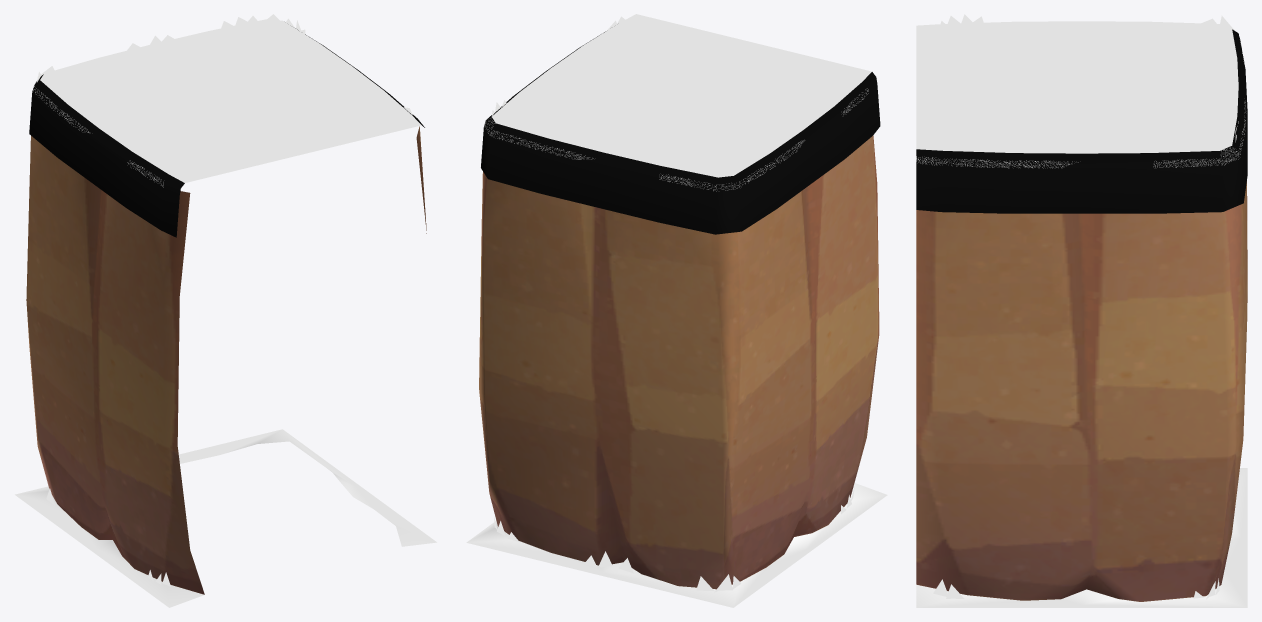
3 views of the same model, side by side, from view 1: azimuth 30°, elevation 25°; view 2: azimuth 150°, elevation 25°; view 3: azimuth 270°, elevation 25° (orthographic). The views are drawn at different scales.
Parts seen in each view (by area): view 1: Cliff__mCliff, GrassT__mGrass, GrassOP__mGrassCliffXlu, GrassB__mGrass, PGrassBB__mProcGrass; view 2: Cliff__mCliff, GrassT__mGrass, GrassOP__mGrassCliffXlu, GrassB__mGrass, PGrassBB__mProcGrass; view 3: Cliff__mCliff, GrassT__mGrass, GrassOP__mGrassCliffXlu, GrassB__mGrass, PGrassBB__mProcGrass.
Boxes of the visible parts, x1=… form: Cliff__mCliff: x1=26, y1=126, x2=426, y2=594; GrassT__mGrass: x1=33, y1=19, x2=421, y2=187; GrassOP__mGrassCliffXlu: x1=29, y1=28, x2=424, y2=237; GrassB__mGrass: x1=15, y1=429, x2=436, y2=607; PGrassBB__mProcGrass: x1=37, y1=14, x2=412, y2=586; Cliff__mCliff: x1=479, y1=135, x2=879, y2=589; GrassT__mGrass: x1=484, y1=14, x2=871, y2=191; GrassOP__mGrassCliffXlu: x1=481, y1=31, x2=880, y2=234; GrassB__mGrass: x1=466, y1=483, x2=887, y2=607; PGrassBB__mProcGrass: x1=492, y1=16, x2=859, y2=592; Cliff__mCliff: x1=916, y1=181, x2=1247, y2=601; GrassT__mGrass: x1=916, y1=21, x2=1245, y2=168; GrassOP__mGrassCliffXlu: x1=916, y1=29, x2=1247, y2=213; GrassB__mGrass: x1=916, y1=468, x2=1247, y2=607; PGrassBB__mProcGrass: x1=933, y1=14, x2=1238, y2=599.
Size of the model in its own units: 10 by 15.38 by 10.
4 materials, 1 textured.
